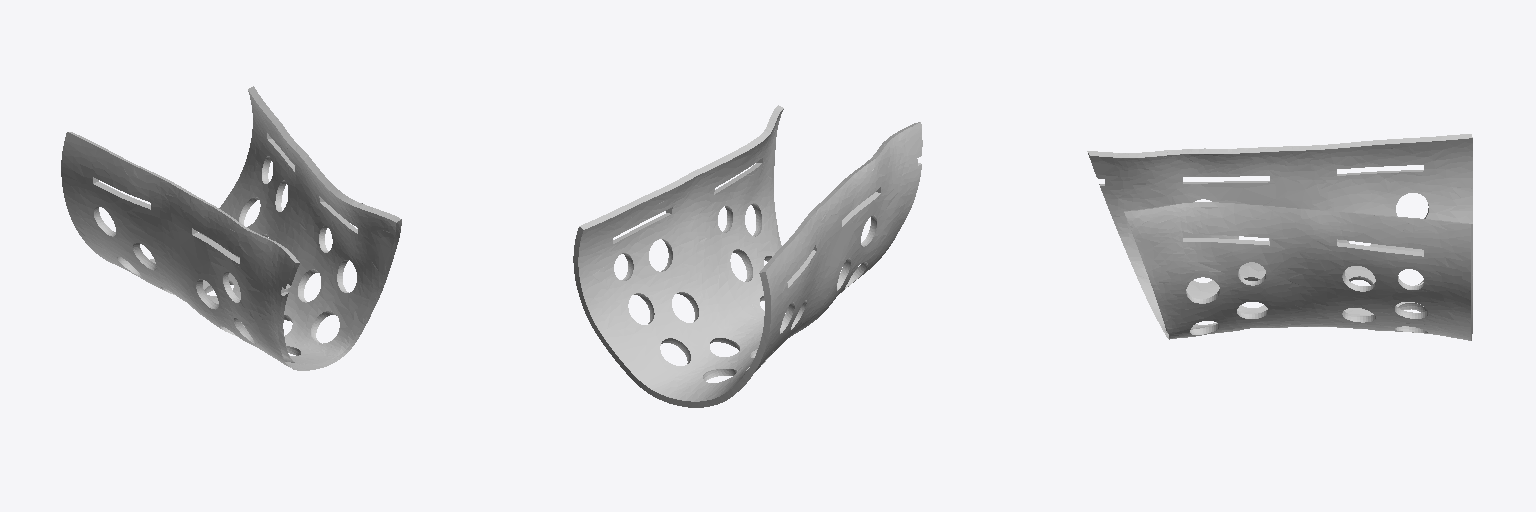
File: wrist_1.obj
3 renders of one model, left to right at view 1: azimuth 30°, elevation 25°; view 2: azimuth 150°, elevation 25°; view 3: azimuth 270°, elevation 25°, orthographic.
Parts seen in each view (by area): view 1: wrist_thing.001_wrist_thing.007; view 2: wrist_thing.001_wrist_thing.007; view 3: wrist_thing.001_wrist_thing.007.
Part boxes in pixels (bbox=[...]): wrist_thing.001_wrist_thing.007: bbox=[61, 86, 401, 370]; wrist_thing.001_wrist_thing.007: bbox=[573, 105, 922, 407]; wrist_thing.001_wrist_thing.007: bbox=[1087, 134, 1472, 340].
Size of the model in its own units: 78.91 by 59.5 by 133.